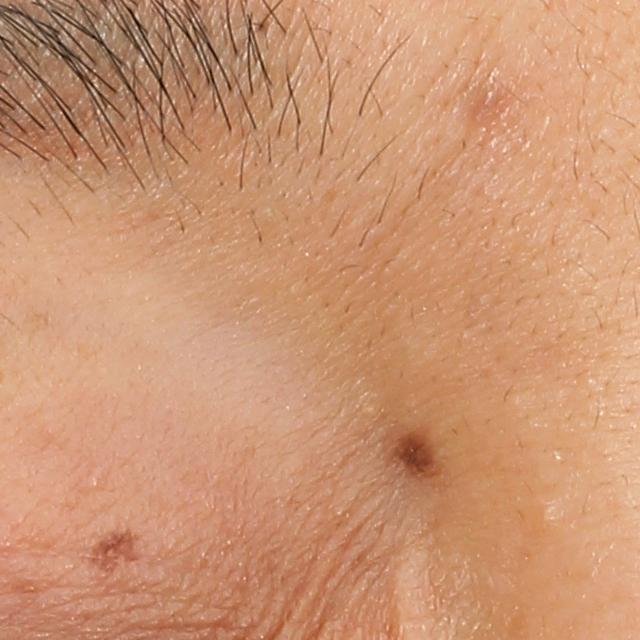comedo: (87, 473, 105, 493)
melasma: (383, 426, 445, 482), (88, 522, 141, 581)
